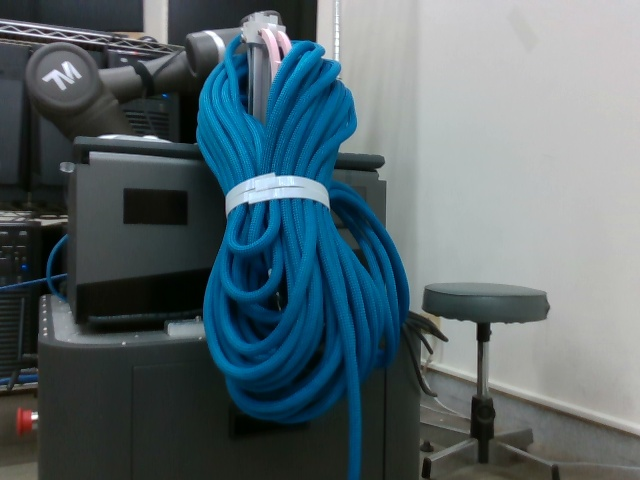rope: (195, 25, 413, 425)
